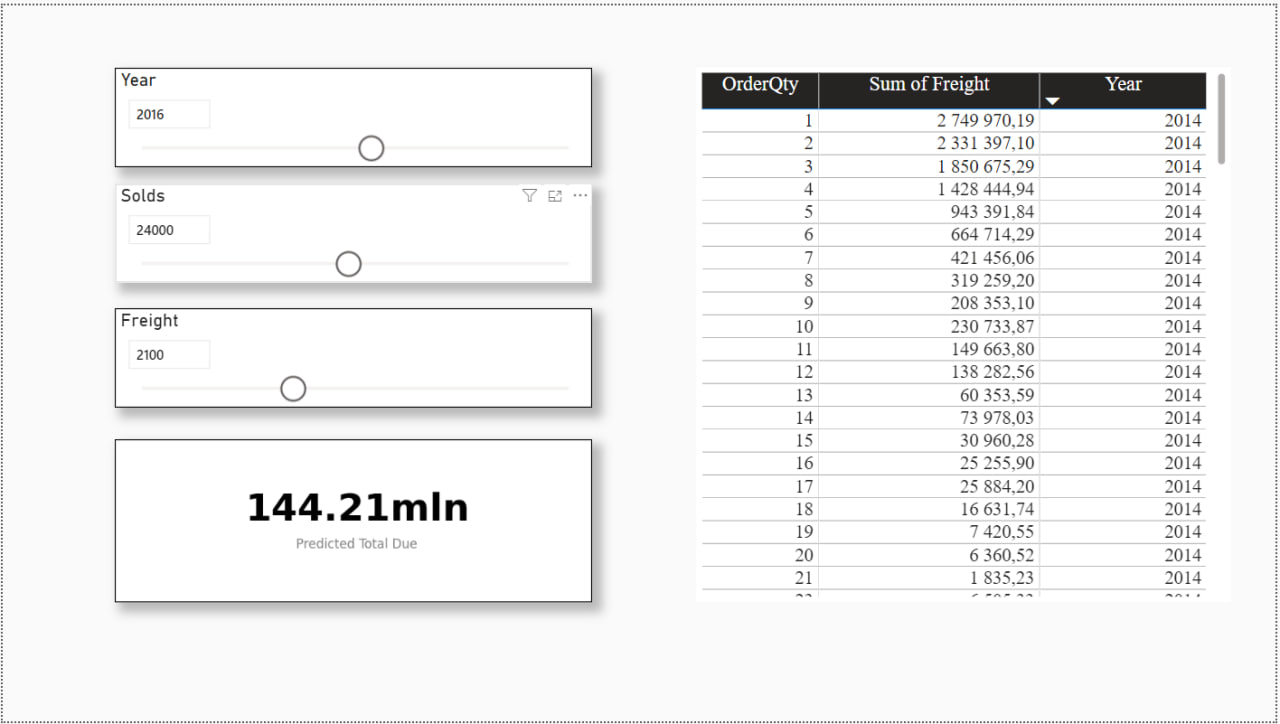

What the dashboard file says about the page in this screenshot:
{"tool":"powerbi","page":{"name":"Prediction","canvas":[1280,720],"ordinal":3},"visuals":[{"type":"pythonVisual","fields":{"Values":["Header.OrderDate.Variation.Date Hierarchy.Year","Sum(Header.OrderQty)","Sum(Header.TotalDue)","Sum(Header.Freight)","Solds 2.Solds_v","Year.Year_Value","freight2.freight2_Value"]},"box":[112.7,436.4,480,163.6],"z":0},{"type":"slicer","title":"Year","fields":{"Values":["Year.Year"]},"box":[112.7,62.7,480,100],"z":1000},{"type":"slicer","title":"Solds","fields":{"Values":["Solds 2.Solds"]},"box":[112.7,179.1,480,100],"z":2000},{"type":"slicer","title":"Freight","fields":{"Values":["freight2.freight2"]},"box":[112.7,304.5,480,100],"z":3000},{"type":"tableEx","fields":{"Values":["Header.OrderQty","Sum(Header.Freight)","Header.OrderDate.Variation.Date Hierarchy.Year"]},"box":[697.3,62.7,538.2,537.3],"z":3001}]}

Visuals, with their boxes in screenshot pixels (x1, y1, x2, y2), scaled from the page's 1280x720 canvas onto the 1280x724 screenshot:
pythonVisual - Header.OrderDate.Variation.Date Hierarchy.Year x Sum(Header.OrderQty): 113, 439, 593, 603
"Year" slicer: 113, 63, 593, 164
"Solds" slicer: 113, 180, 593, 281
"Freight" slicer: 113, 306, 593, 407
tableEx - Header.OrderQty x Sum(Header.Freight): 697, 63, 1236, 603
